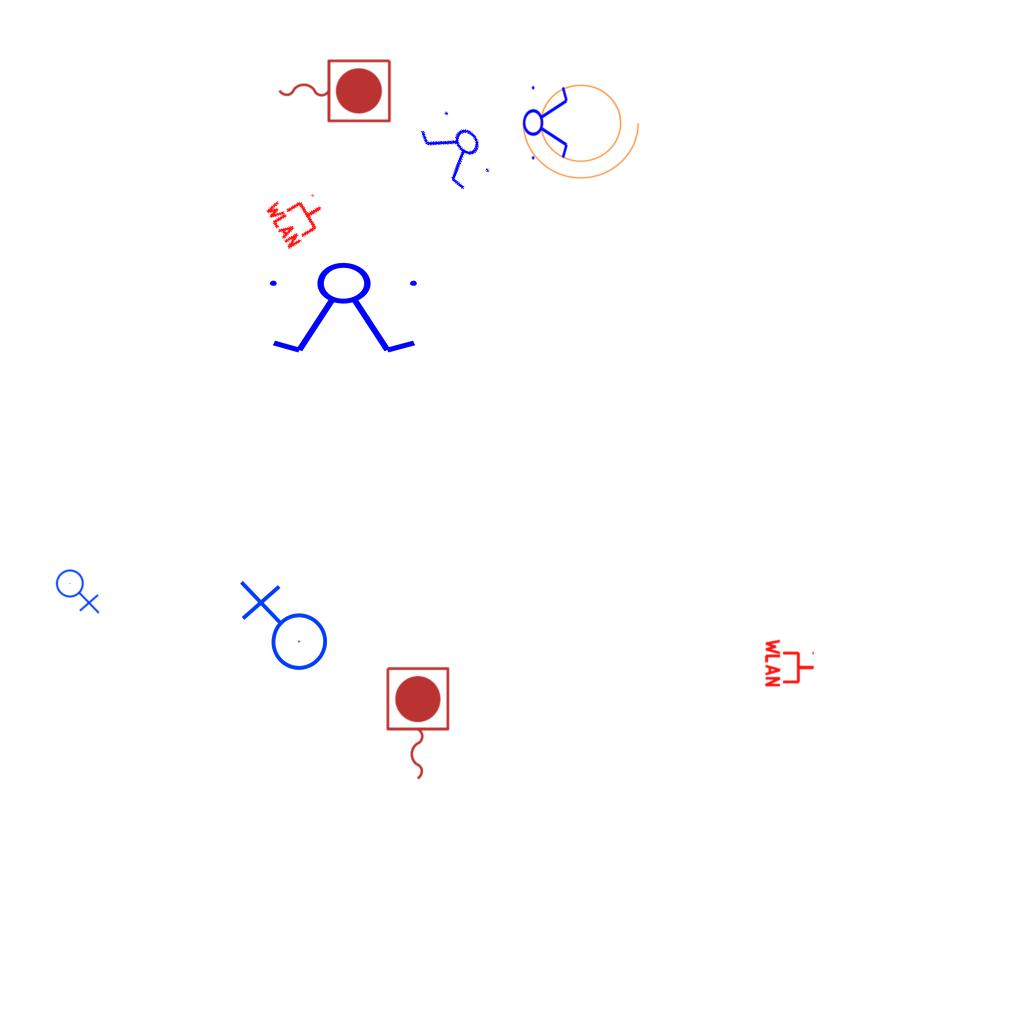Elektroanschluss_allgemein_230V_Geraeteanschlussdose_230V: (235, 580, 329, 679), (55, 565, 102, 614)
Scheinwerfer_fuer_Alarmbeleuchtung: (518, 72, 650, 184)
Serienschalter: (261, 261, 429, 357), (412, 101, 502, 199), (522, 80, 570, 164)
WLAN: (262, 180, 334, 252), (764, 637, 816, 689)
Zugtaster: (381, 663, 453, 785), (273, 54, 395, 126)
